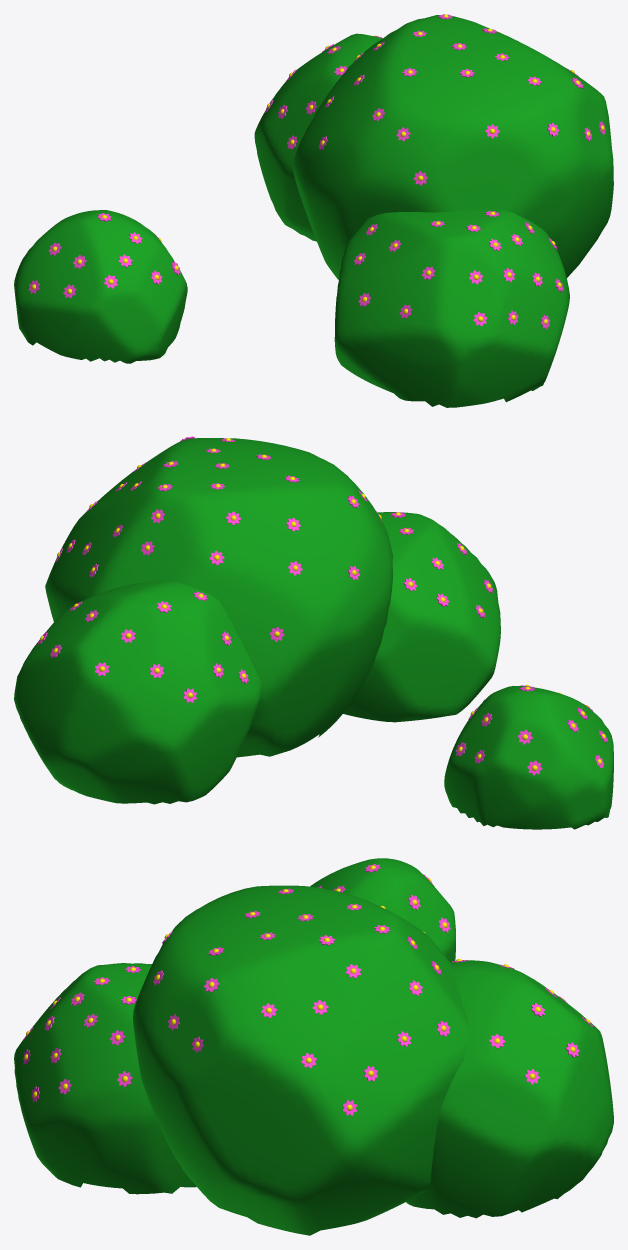
The model's file is flowerbushies_02.fbx.
3 renders of one model, top to bottom at view 1: azimuth 30°, elevation 25°; view 2: azimuth 150°, elevation 25°; view 3: azimuth 270°, elevation 25°, orthographic. The views are drawn at different scales.
Visible parts, largest first — view 1: GeoSphere005; view 2: GeoSphere005; view 3: GeoSphere005.
Part boxes in pixels (x1,y1,x2,y2): GeoSphere005: [14, 14, 613, 407]; GeoSphere005: [14, 436, 613, 829]; GeoSphere005: [14, 858, 613, 1235].
Size of the model in its own units: 164 by 71.74 by 138.
